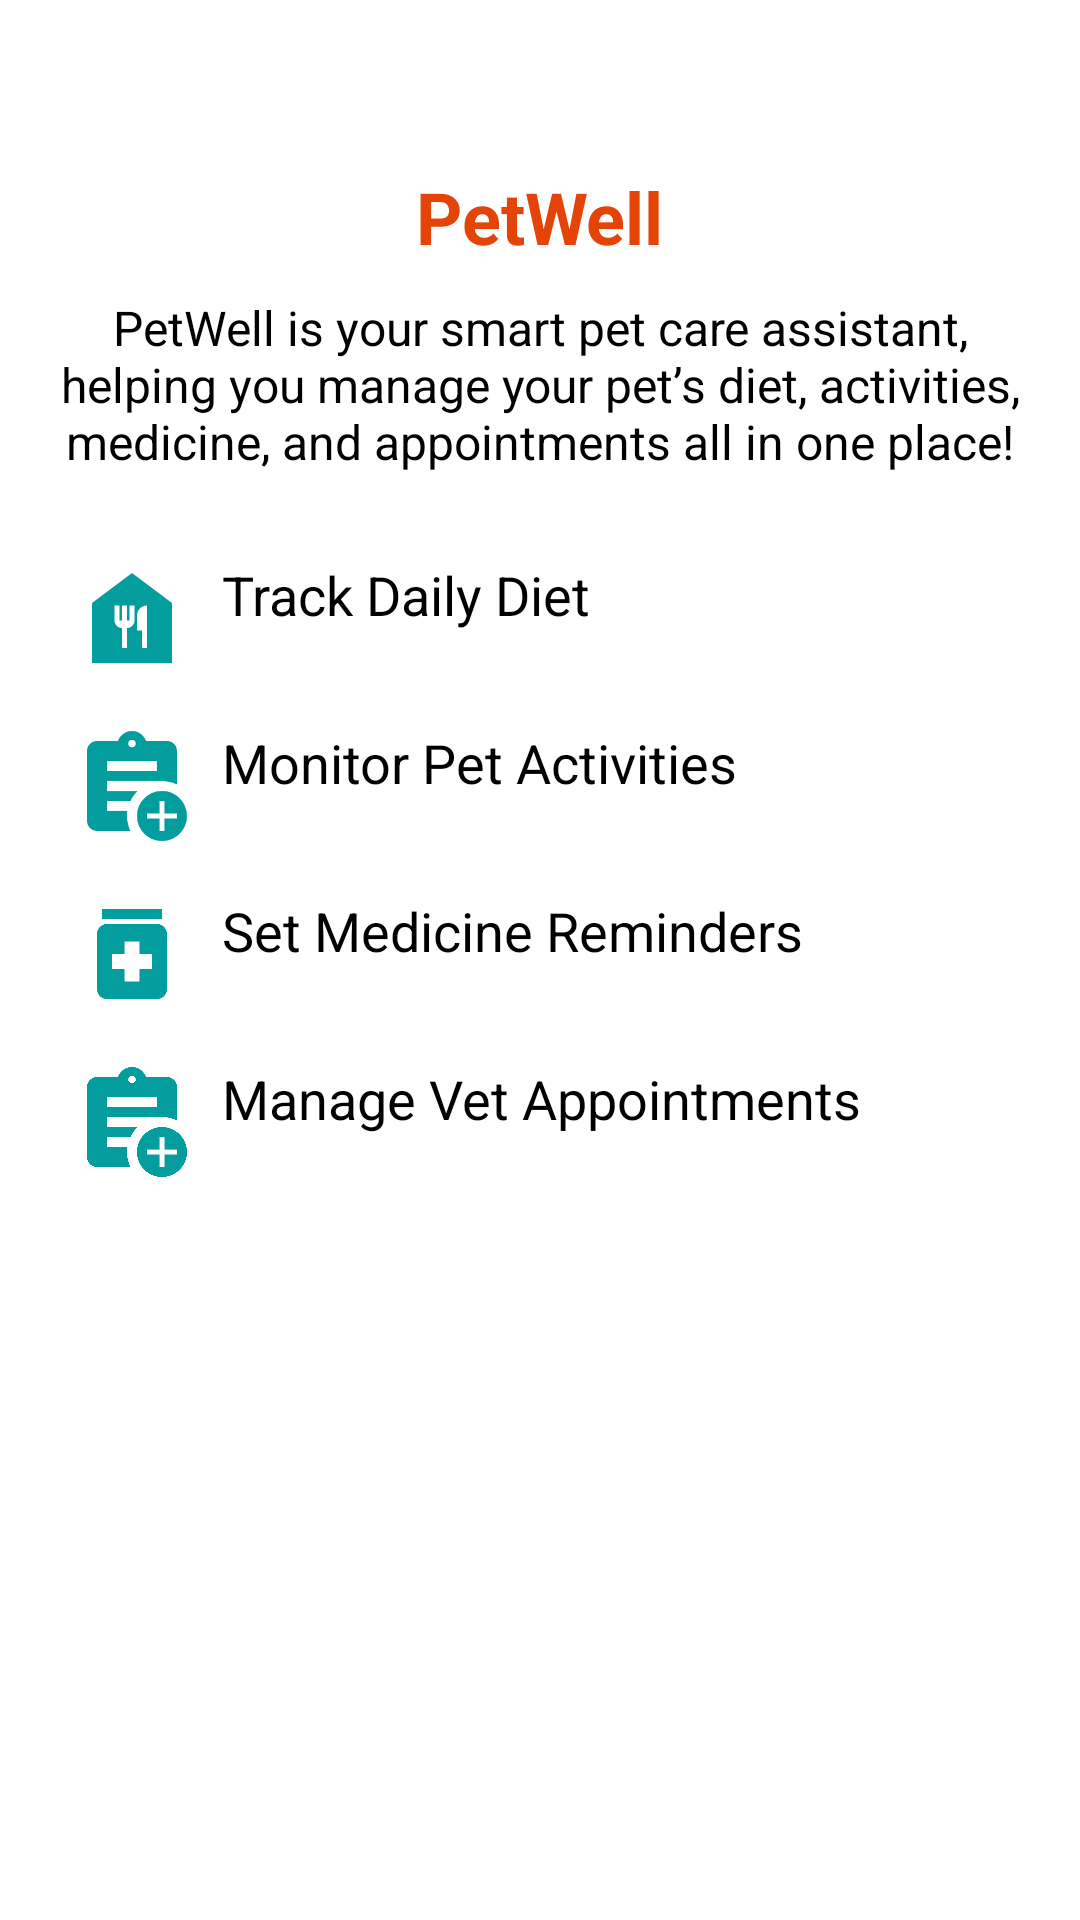

Icon bounding boxes for this 1080*1920 phone screenshot, format rect(x1, y1, x2, y2):
assignment add: rect(87, 731, 187, 841), rect(87, 1067, 187, 1177)
food bank: rect(92, 573, 172, 663)
medication: rect(97, 909, 167, 999)
